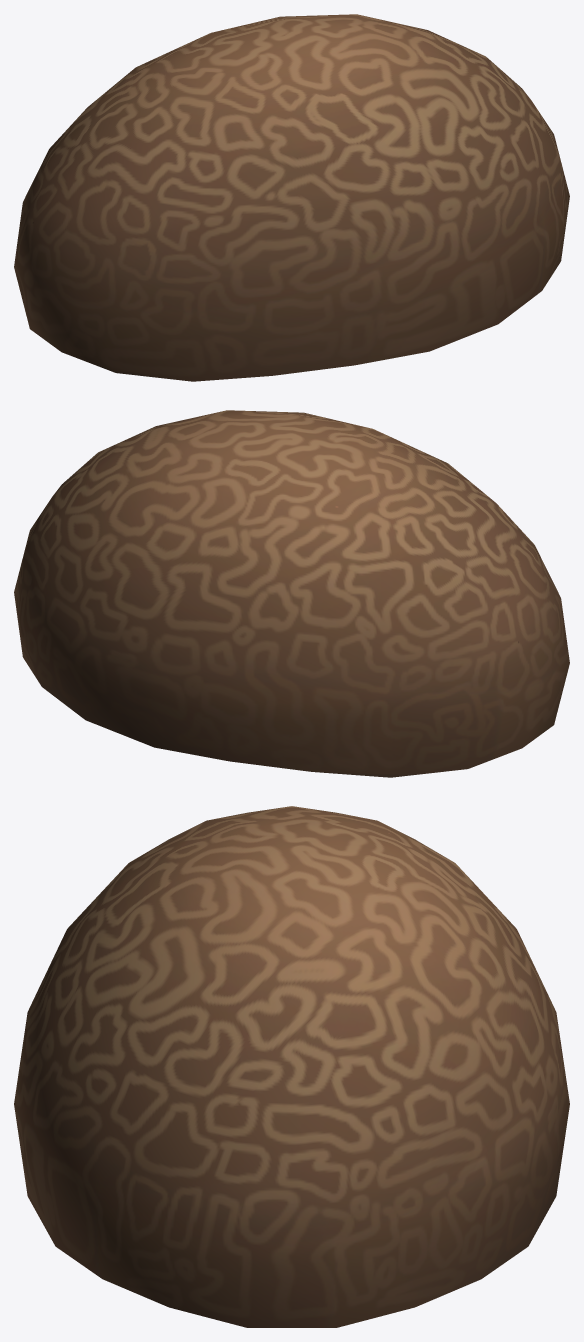
File: Coral_v3.fbx
3 renders of one model, top to bottom at view 1: azimuth 30°, elevation 25°; view 2: azimuth 150°, elevation 25°; view 3: azimuth 270°, elevation 25°, orthographic. The views are drawn at different scales.
Visible parts, largest first — view 1: Corall_v3; view 2: Corall_v3; view 3: Corall_v3.
Boxes of the visible parts, x1,y1,x2,y2 form: Corall_v3: (14, 14, 569, 381); Corall_v3: (14, 410, 569, 777); Corall_v3: (14, 806, 569, 1327).
Size of the model in its own units: 667 by 308 by 482.
